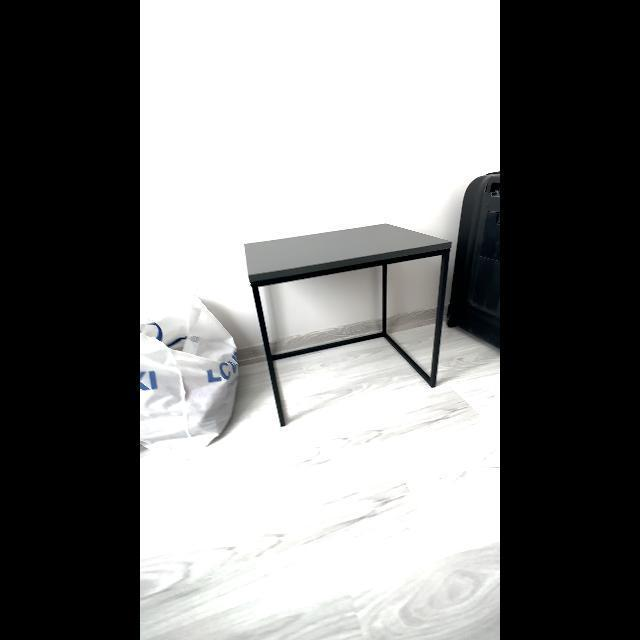coffee table: (236, 216, 452, 418)
